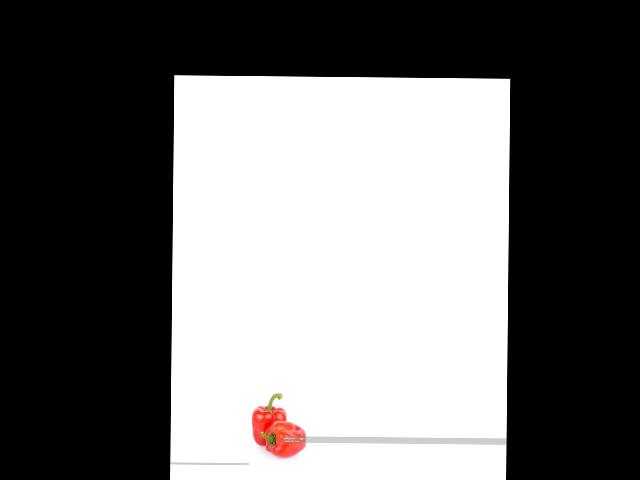bell_pepper: (261, 417, 311, 457)
